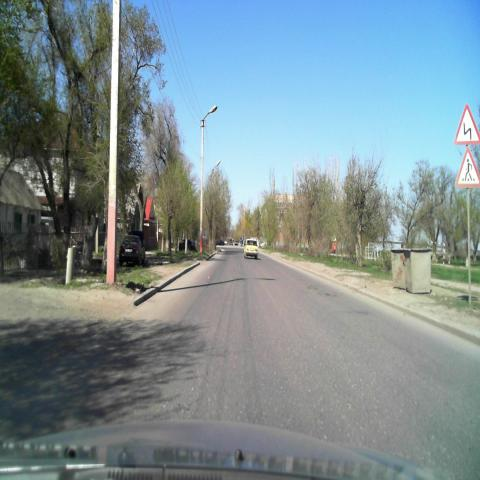1_12_2: (455, 102, 479, 142)
